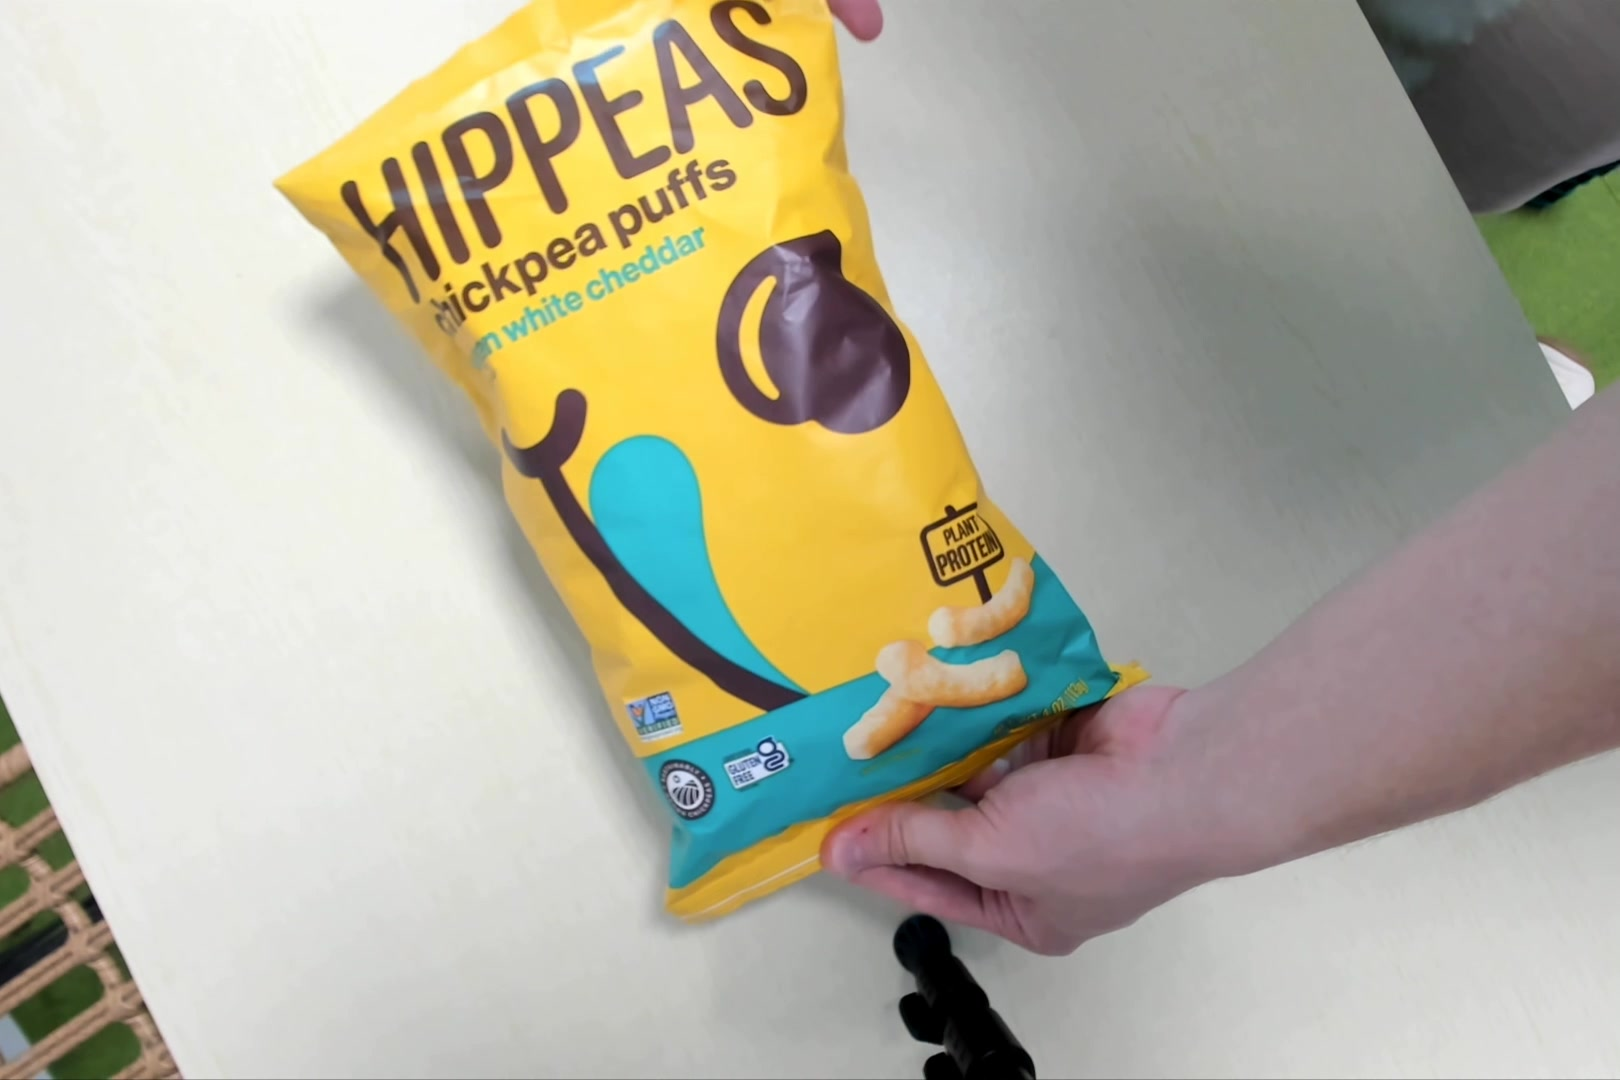PotatoChipsKeropok_100-199g_NonHalal_NonHealthy: (301, 12, 1121, 912)
